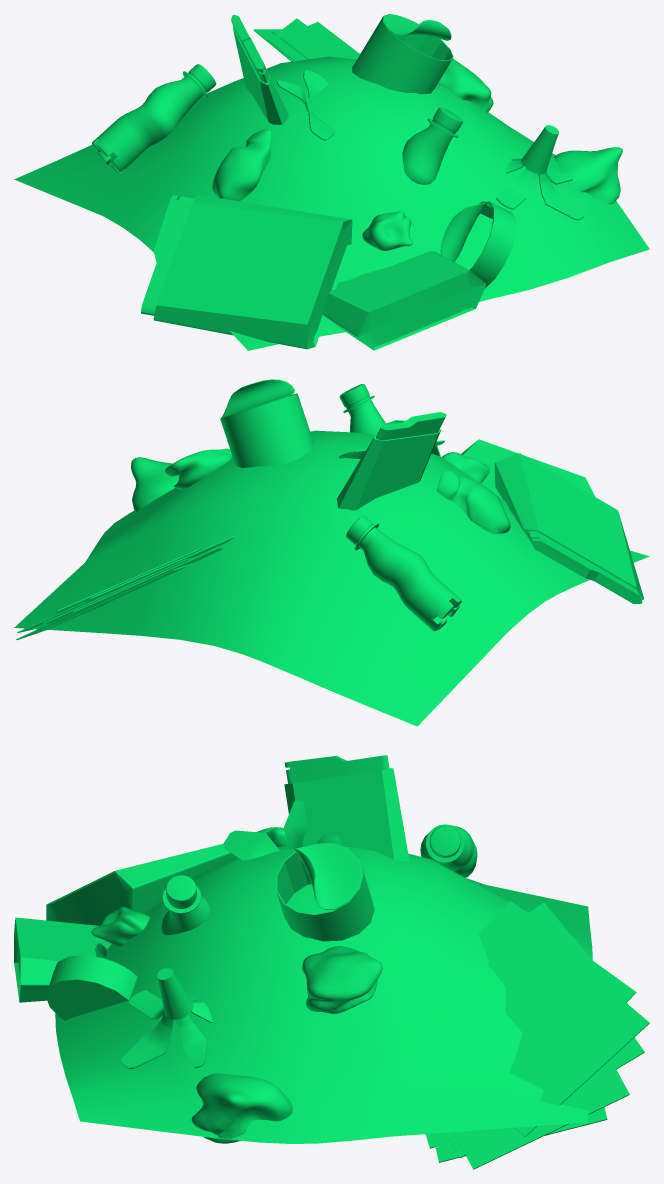
Rendered from SM_TrashPile.fbx.
3 renders of one model, top to bottom at view 1: azimuth 30°, elevation 25°; view 2: azimuth 150°, elevation 25°; view 3: azimuth 270°, elevation 25°, orthographic. The views are drawn at different scales.
Visible parts, largest first — view 1: SM_TrashPile; view 2: SM_TrashPile; view 3: SM_TrashPile.
Part boxes in pixels (<box>): SM_TrashPile: <box>14,14,649,350</box>; SM_TrashPile: <box>14,379,649,726</box>; SM_TrashPile: <box>14,755,649,1169</box>.
Size of the model in its own units: 116 by 53.22 by 117.
